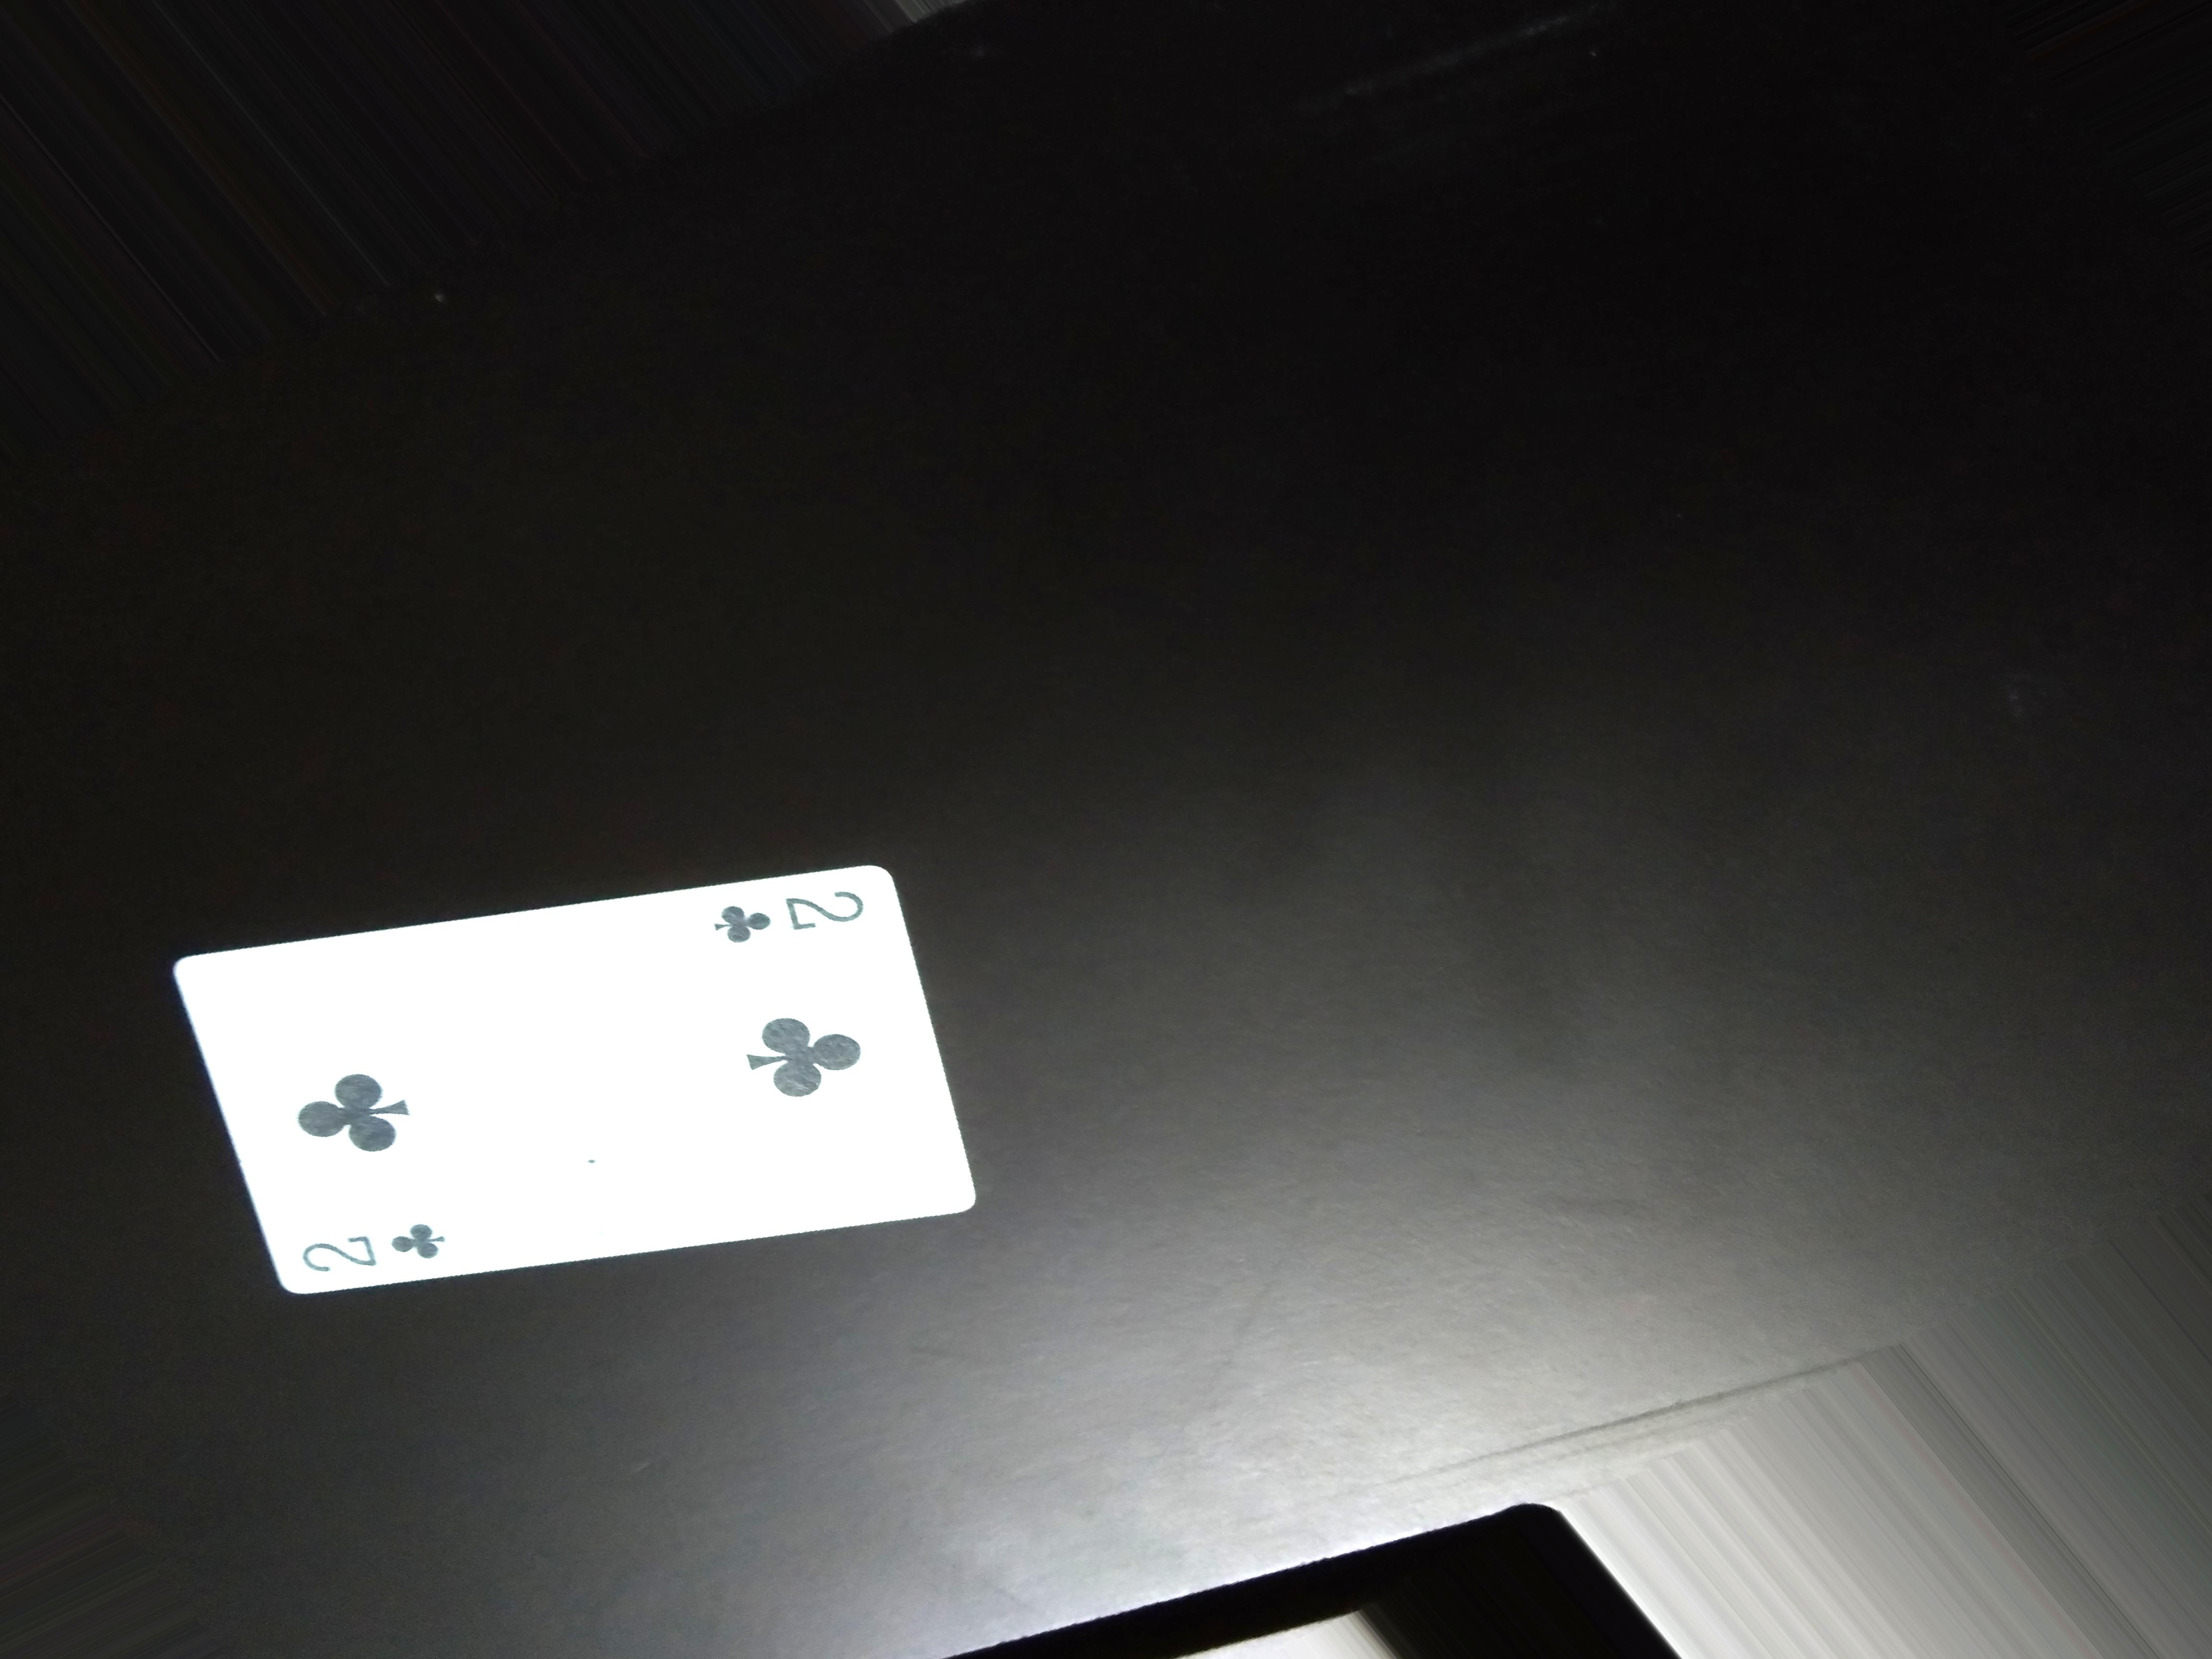2C: (277, 1211, 482, 1269)
